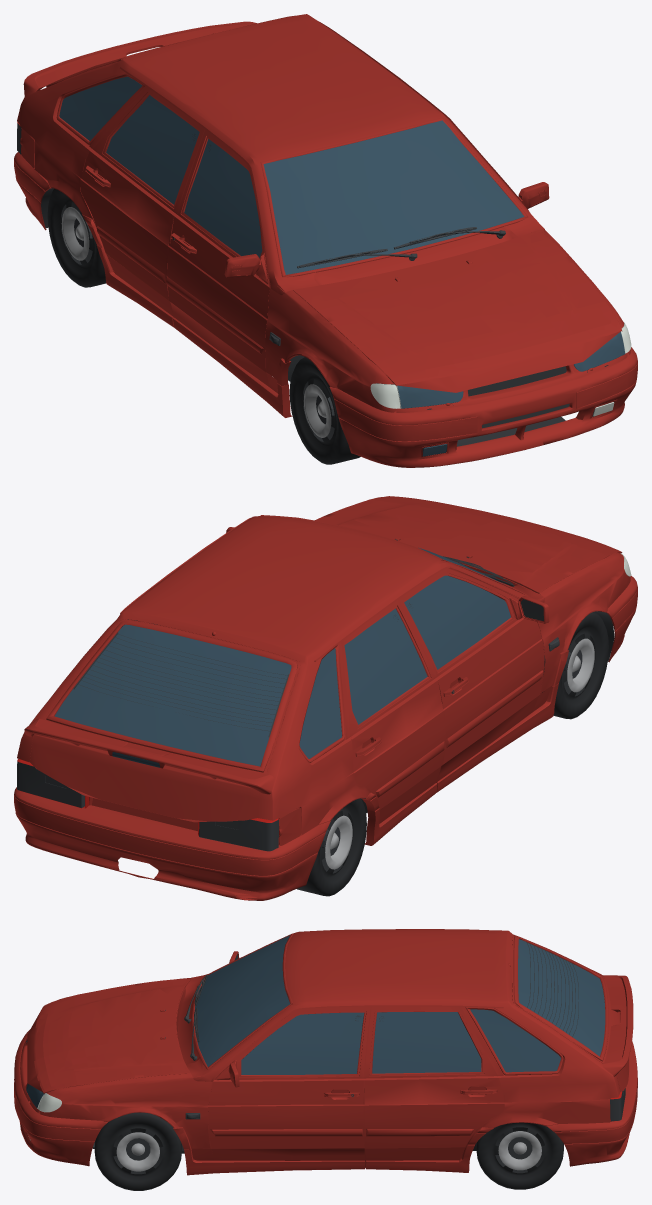
File: vaz2114.glb
3 renders of one model, top to bottom at view 1: azimuth 30°, elevation 25°; view 2: azimuth 150°, elevation 25°; view 3: azimuth 270°, elevation 25°, orthographic. The views are drawn at different scales.
Visible parts, largest first — view 1: paint, glass, wheel_fr, wheel_rr, trim, bulkhead, headlights; view 2: paint, glass, trim, wheel_fr, wheel_rr; view 3: paint, glass, wheel_fl, wheel_rl, trim.
Part boxes in pixels (x1,y1,x2,y2): paint: (14,14,637,467); glass: (59,76,625,456); wheel_fr: (289,357,360,464); wheel_rr: (47,188,105,287); trim: (17,123,613,454); bulkhead: (376,365,607,428); headlights: (370,322,631,416); paint: (14,496,637,900); glass: (55,547,510,767); trim: (17,539,614,851); wheel_fr: (542,612,608,719); wheel_rr: (297,798,366,896); paint: (14,929,637,1175); glass: (26,935,605,1108); wheel_fl: (94,1112,181,1190); wheel_rl: (476,1122,563,1189); trim: (92,942,625,1153).
Size of the model in its own units: 2.04 by 1.37 by 4.32.
